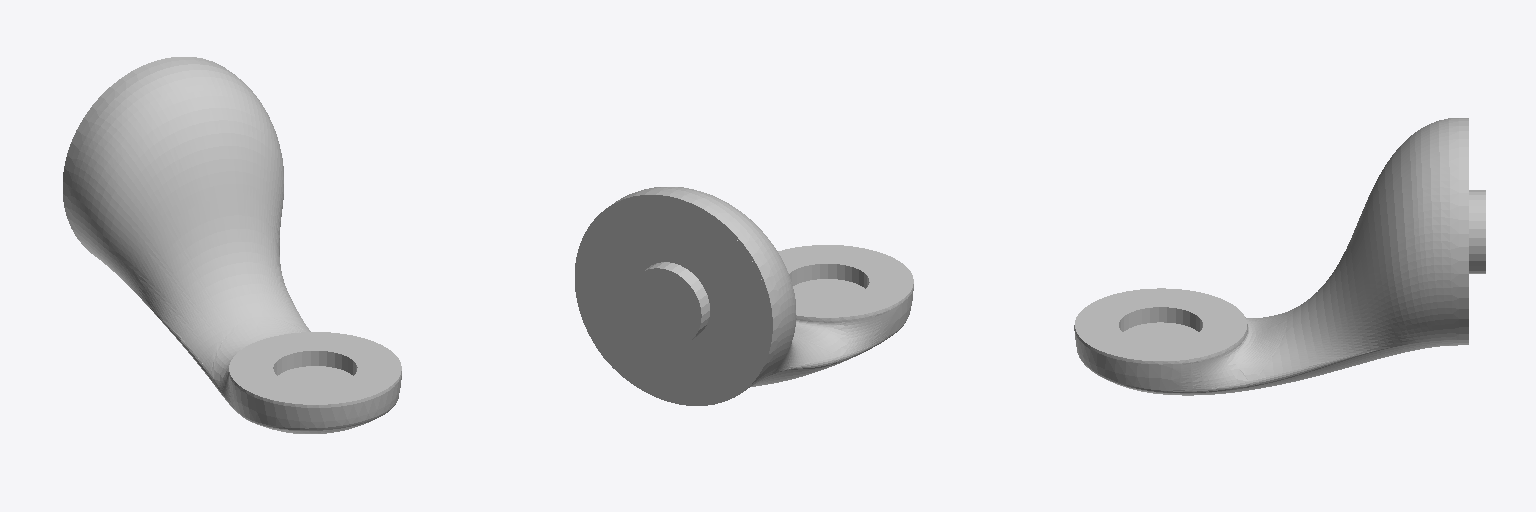
3 renders of one model, left to right at view 1: azimuth 30°, elevation 25°; view 2: azimuth 150°, elevation 25°; view 3: azimuth 270°, elevation 25°, orthographic.
Parts seen in each view (by area): view 1: link_5; view 2: link_5; view 3: link_5.
Part boxes in pixels (bbox=[...]): link_5: bbox=[63, 57, 401, 433]; link_5: bbox=[575, 187, 913, 405]; link_5: bbox=[1074, 118, 1485, 395].
Bounding box in the file's own units: 0.1358 × 0.167 × 0.2439.